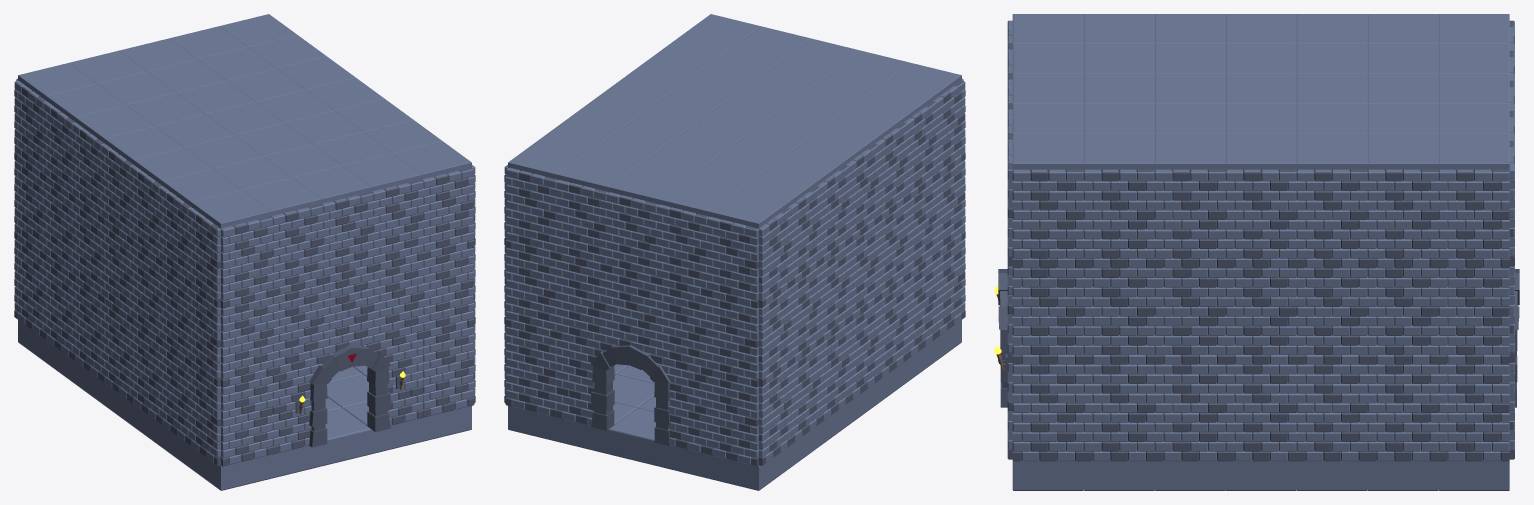
Rendered from Room_5x7.gltf.
The picture shows the model from 3 angles, left to right: view 1: azimuth 30°, elevation 25°; view 2: azimuth 150°, elevation 25°; view 3: azimuth 270°, elevation 25°; orthographic projection. The views are drawn at different scales.
Visible parts, largest first — view 1: ArchOpen, Wall_S_0_T2, Wall_S_0_T0, Wall_S_0_T1, Wall_S_2_T2, Wall_S_3_T2, Wall_S_4_T2, Wall_S_1_T2, Wall_S_4_T0, Wall_S_3_T1, Wall_S_4_T1, Wall_S_1_T1 (+69 smaller); view 2: ArchOpen.001, Wall_N_0_T2, Wall_N_0_T0, Wall_N_0_T1, Wall_N_2_T2, Wall_N_3_T2, Wall_N_4_T2, Wall_N_1_T2, Wall_N_4_T0, Wall_N_3_T1, Wall_N_4_T1, Wall_N_1_T1 (+69 smaller); view 3: Wall_E_1_T2, Wall_E_2_T2, Wall_E_3_T2, Wall_E_4_T2, Wall_E_5_T2, Wall_E_0_T2, Wall_E_6_T2, Wall_E_2_T0, Wall_E_3_T0, Wall_E_0_T0, Wall_E_1_T0, Wall_E_4_T0 (+58 smaller).
Boxes of the visible parts, x1,y1,x2,y2 form: ArchOpen: [272, 339, 423, 454]; Wall_S_0_T2: [221, 216, 273, 308]; Wall_S_0_T0: [221, 376, 273, 466]; Wall_S_0_T1: [221, 297, 273, 387]; Wall_S_2_T2: [321, 192, 373, 284]; Wall_S_3_T2: [371, 179, 423, 271]; Wall_S_4_T2: [421, 167, 474, 259]; Wall_S_1_T2: [271, 204, 323, 296]; Wall_S_4_T0: [423, 326, 474, 417]; Wall_S_3_T1: [373, 260, 423, 350]; Wall_S_4_T1: [423, 248, 474, 338]; Wall_S_1_T1: [272, 284, 323, 375]; ArchOpen.001: [556, 339, 707, 454]; Wall_N_0_T2: [706, 216, 758, 308]; Wall_N_0_T0: [706, 376, 758, 466]; Wall_N_0_T1: [706, 297, 758, 387]; Wall_N_2_T2: [606, 192, 658, 284]; Wall_N_3_T2: [556, 179, 608, 271]; Wall_N_4_T2: [505, 167, 558, 259]; Wall_N_1_T2: [656, 204, 708, 296]; Wall_N_4_T0: [505, 326, 556, 417]; Wall_N_3_T1: [556, 260, 606, 350]; Wall_N_4_T1: [505, 248, 556, 338]; Wall_N_1_T1: [656, 284, 707, 375]; Wall_E_1_T2: [1083, 169, 1154, 268]; Wall_E_2_T2: [1154, 169, 1225, 268]; Wall_E_3_T2: [1225, 169, 1296, 268]; Wall_E_4_T2: [1296, 169, 1367, 268]; Wall_E_5_T2: [1367, 169, 1438, 268]; Wall_E_0_T2: [1012, 169, 1083, 268]; Wall_E_6_T2: [1438, 169, 1509, 268]; Wall_E_2_T0: [1154, 364, 1225, 461]; Wall_E_3_T0: [1225, 364, 1296, 461]; Wall_E_0_T0: [1012, 364, 1083, 461]; Wall_E_1_T0: [1083, 364, 1154, 461]; Wall_E_4_T0: [1296, 364, 1367, 461].
Size of the model in its own units: 10.3 by 10.2 by 14.8.
